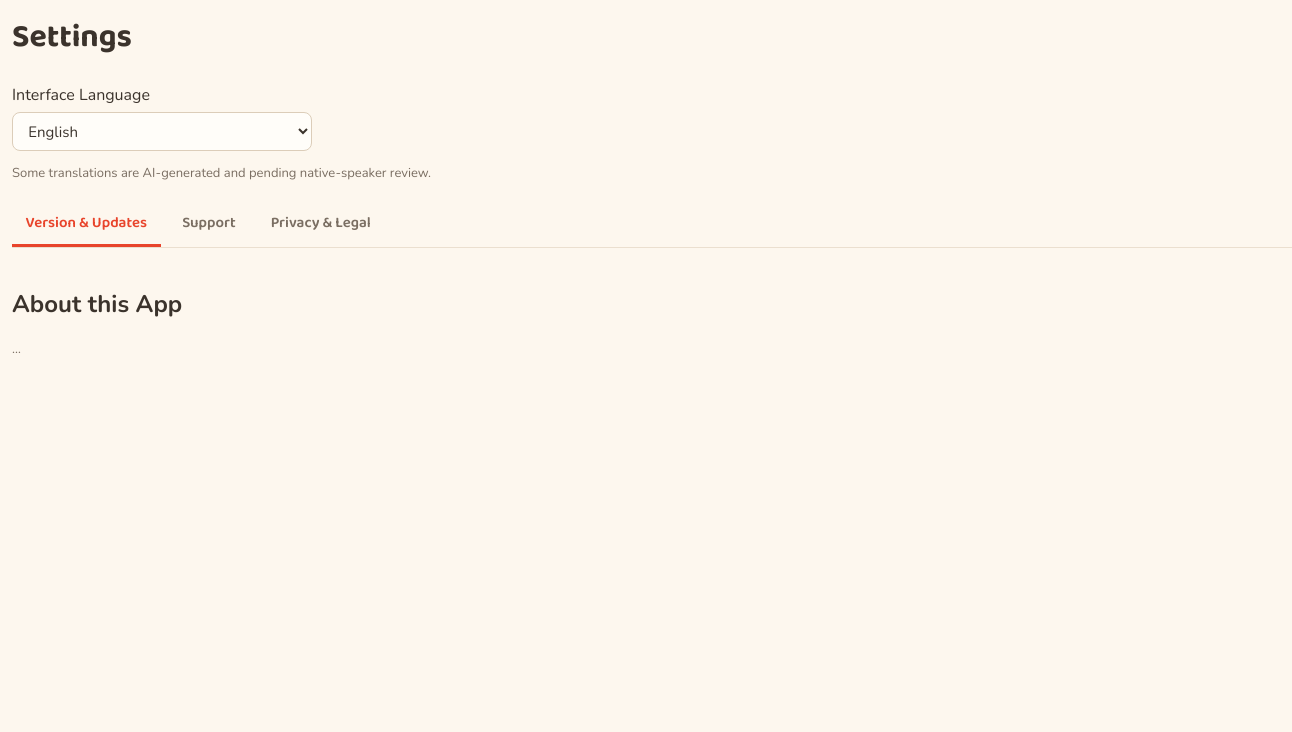
Scenario: SettingsScreen — tabs › switches visible content when a different tab is activated
What coordinates should you click on to do the following:
click the tab "Support"
I would click on:
 (209, 225)
Its box is 169,202 -> 249,247.
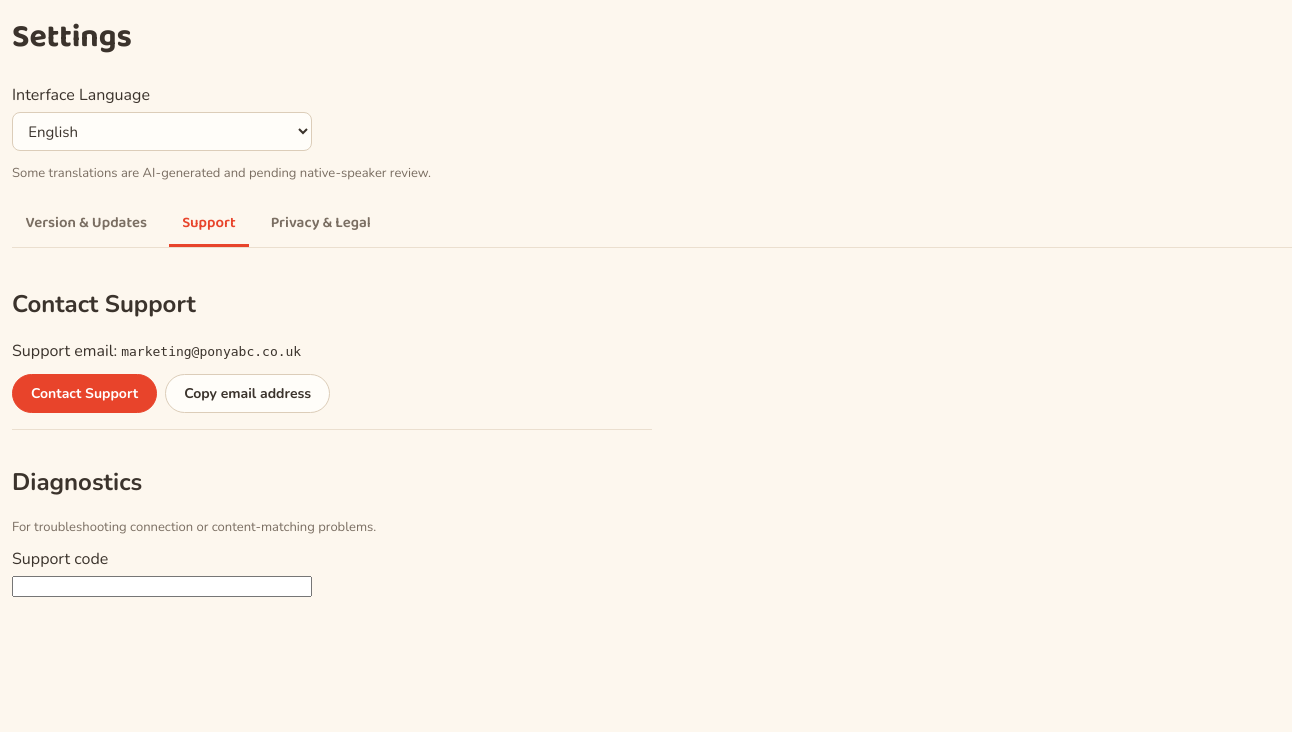
Expected: the heading "Contact Support" is shown, 12,288 -> 196,320
